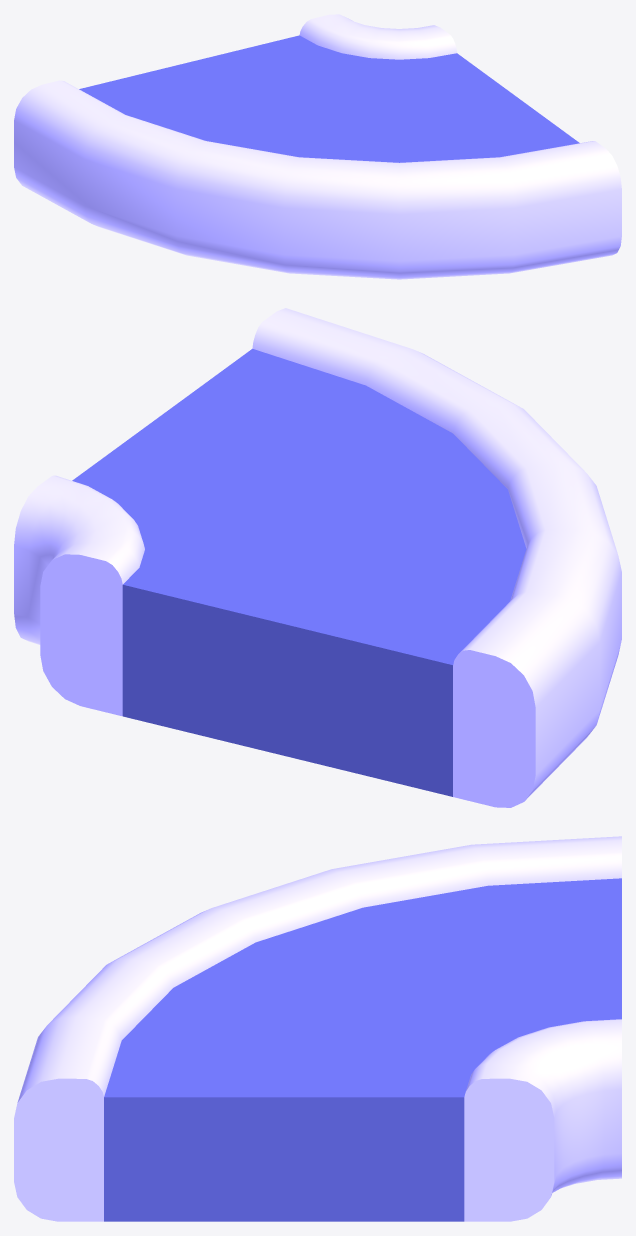
Rendered from Gray_corner.fbx.
3 views of the same model, one above another, from view 1: azimuth 30°, elevation 25°; view 2: azimuth 150°, elevation 25°; view 3: azimuth 270°, elevation 25° (orthographic). The views are drawn at different scales.
Parts seen in each view (by area): view 1: Cube.038; view 2: Cube.038; view 3: Cube.038.
Boxes of the visible parts, x1,y1,x2,y2 form: Cube.038: (14, 14, 621, 279); Cube.038: (14, 308, 621, 807); Cube.038: (14, 836, 621, 1221).
Bounding box in the file's own units: 270 × 70 × 270.
